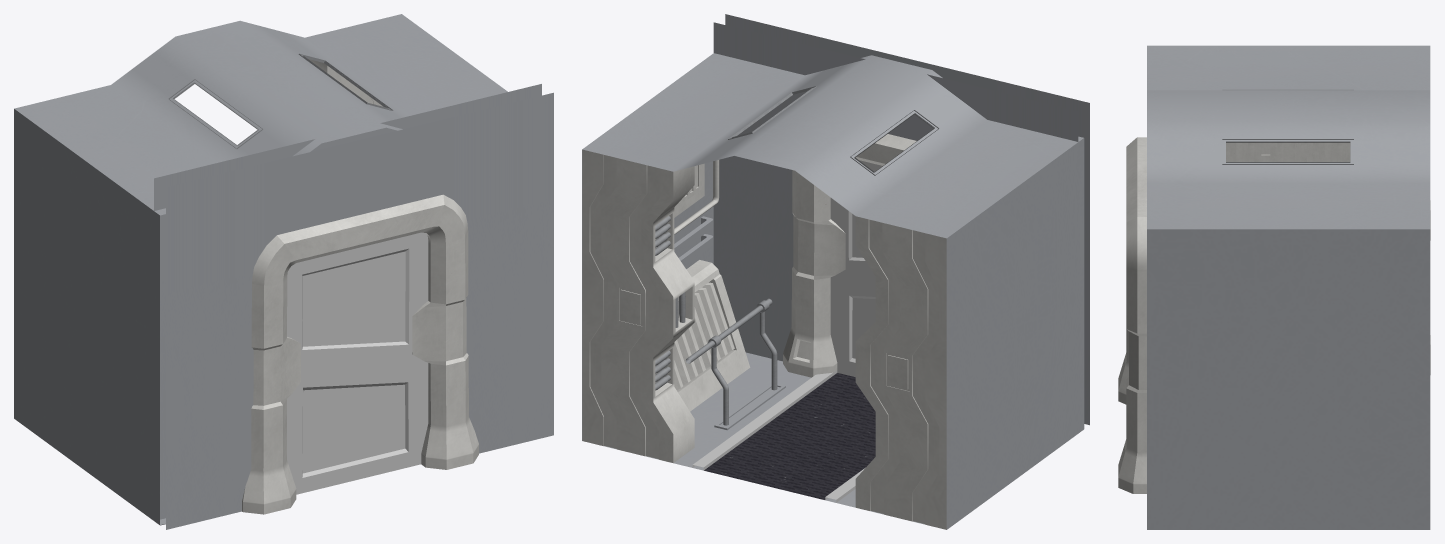
Rendered from entranceTunnel.fbx.
3 renders of one model, left to right at view 1: azimuth 30°, elevation 25°; view 2: azimuth 150°, elevation 25°; view 3: azimuth 270°, elevation 25°, orthographic. The views are drawn at different scales.
Parts seen in each view (by area): view 1: entranceTunnel, doorWall, doorFrame, doorTop, doorBottom; view 2: entranceTunnel, doorWall, doorFrame, doorBottom, doorTop; view 3: entranceTunnel, doorFrame.
Boxes of the visible parts, x1,y1,x2,y2 form: entranceTunnel: (14,14,507,525); doorWall: (154,84,553,529); doorFrame: (242,194,478,514); doorTop: (287,232,428,369); doorBottom: (287,362,428,494); entranceTunnel: (582,53,1084,529); doorWall: (713,14,1089,425); doorFrame: (783,134,916,377); doorBottom: (830,276,875,376); doorTop: (830,160,882,278); entranceTunnel: (1147,45,1430,529); doorFrame: (1118,137,1146,493).
Size of the model in its own units: 4 by 3.38 by 2.88.
